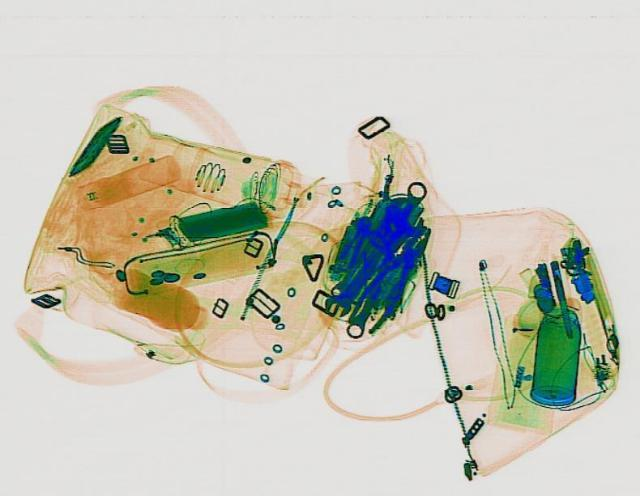Wrench: (316, 176, 434, 316)
